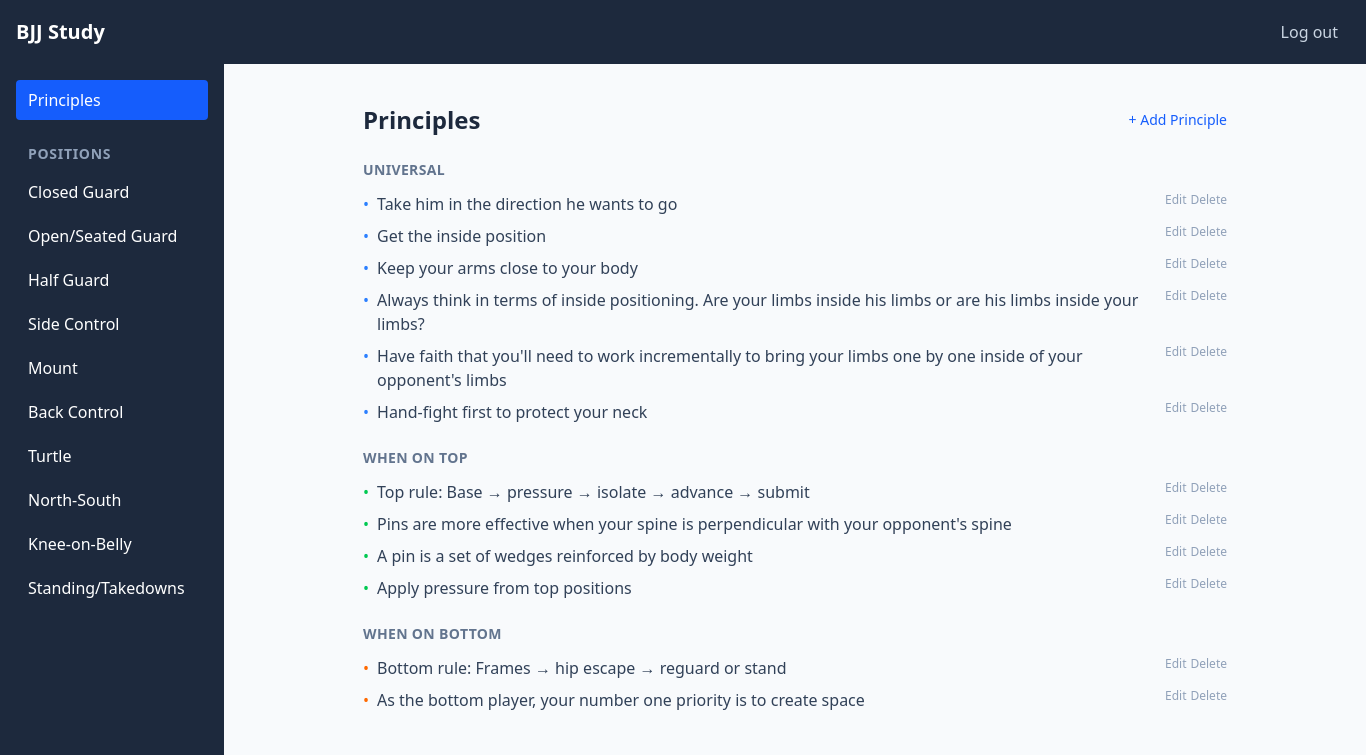
Test: App › navigates between positions
# Go to Closed Guard
Click the button "Closed Guard". click: (112, 192)
box: [16,172,208,212]
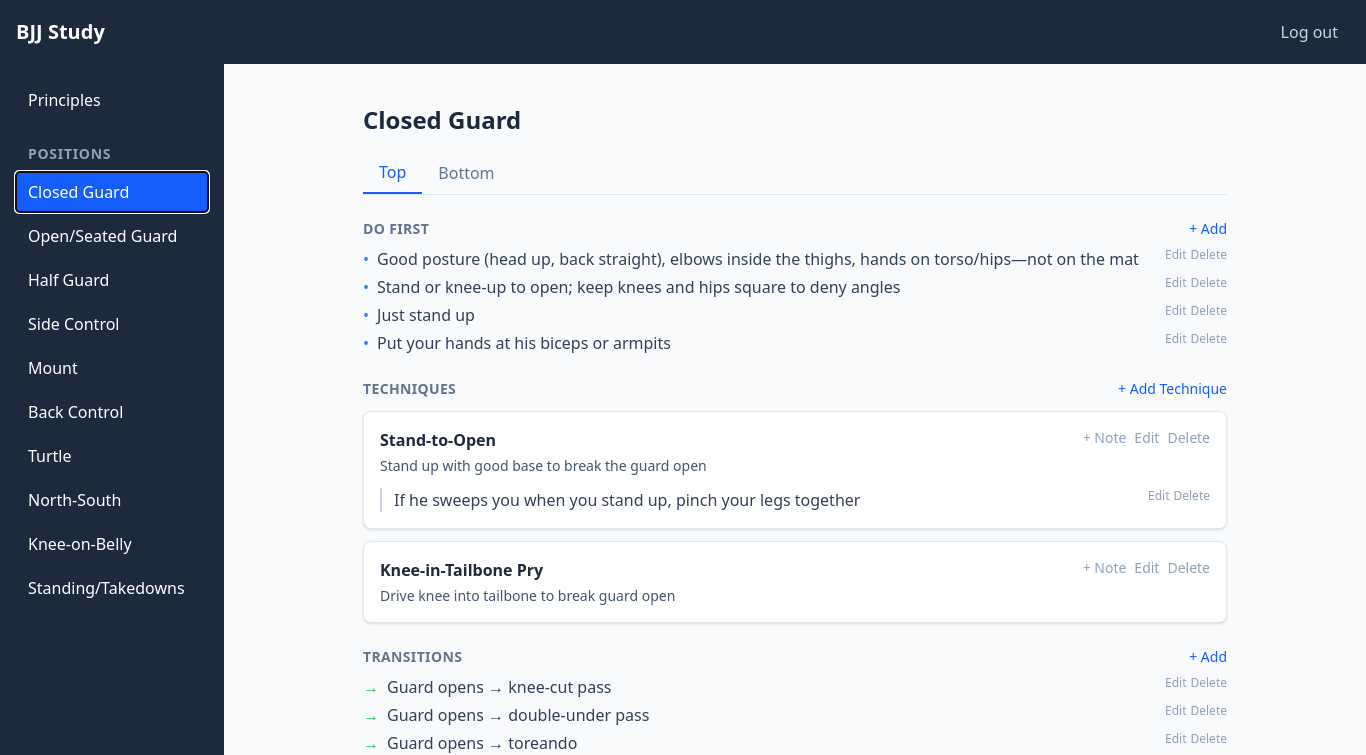
Expected: the heading "Closed Guard" is shown, [363,103,521,136]
# Go to Mount
Click the button "Mount". click: (112, 368)
box: [16,348,208,388]
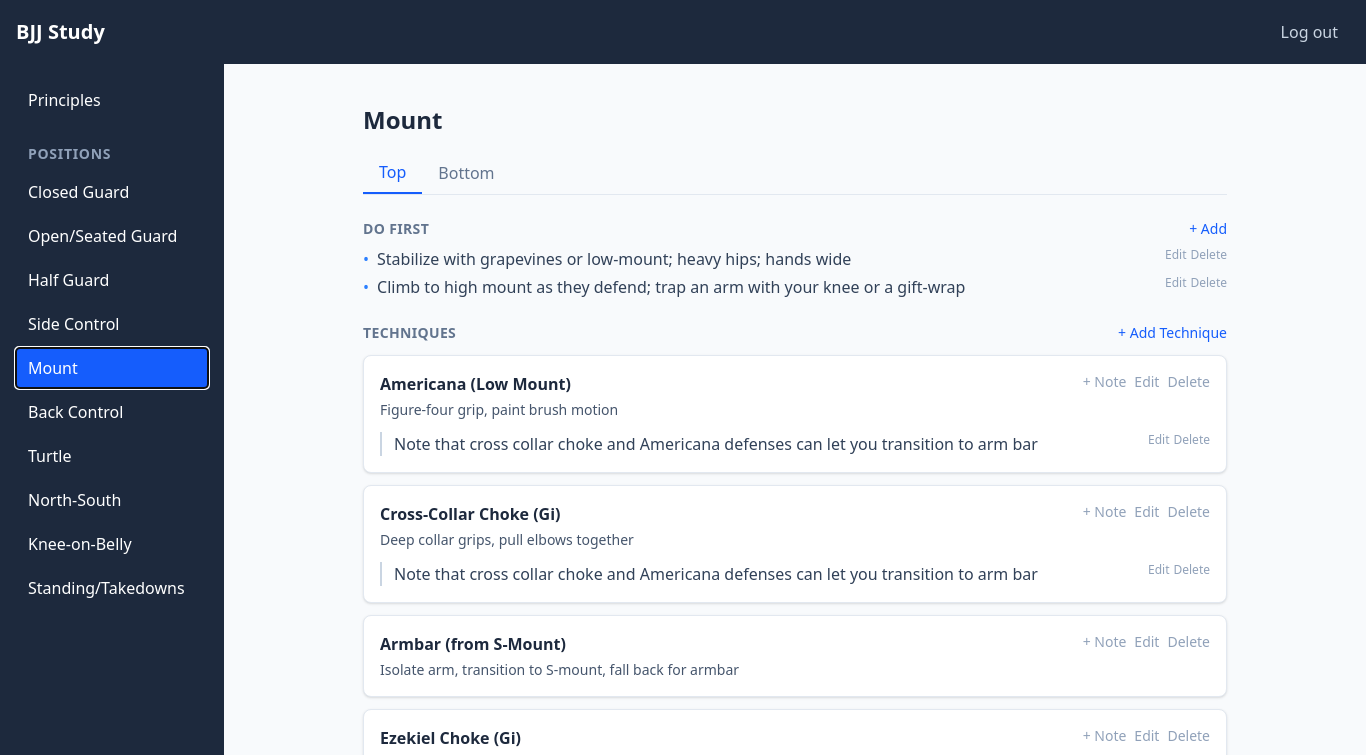
Expected: the heading "Mount" is shown, [363,103,442,136]
